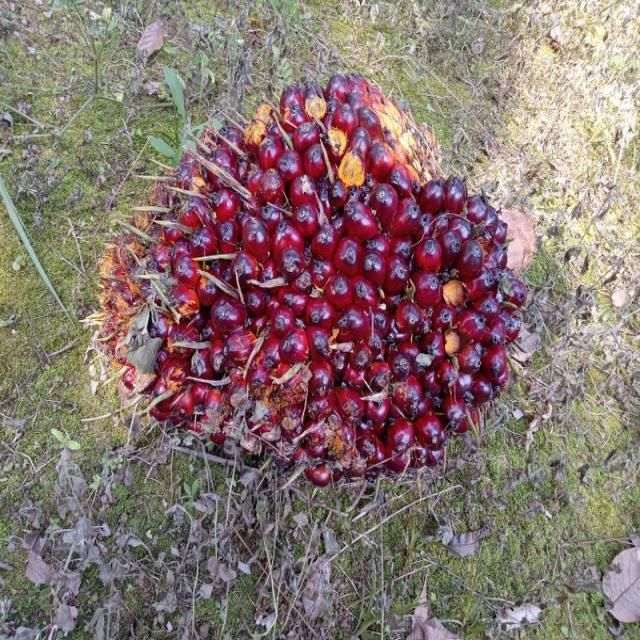fraksi 1: (85, 42, 542, 540)
